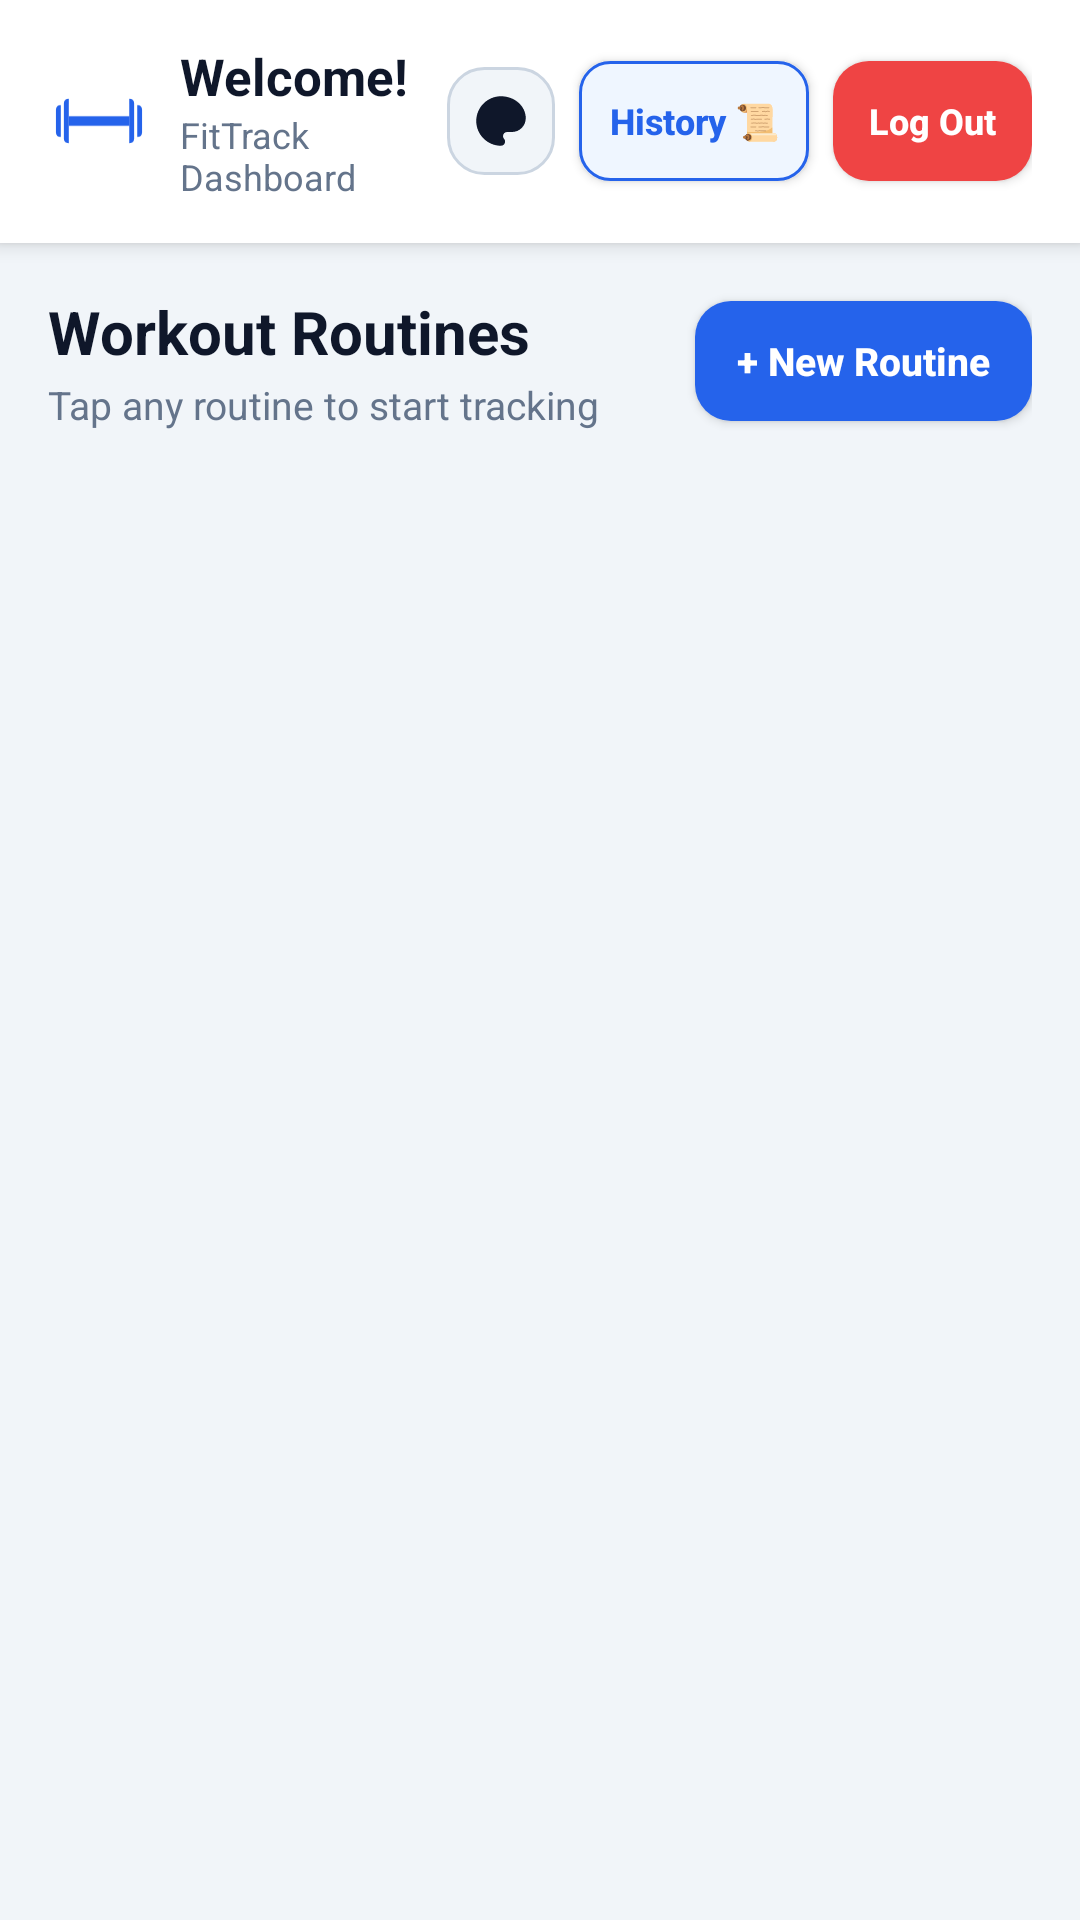

Locate icon controls on the screen. Image size 1080px×1920px, boxes as (x1, y1, x2, y2).
dumbbell: (56, 98, 142, 144)
Toggle dark or light mode: (447, 67, 555, 175)
